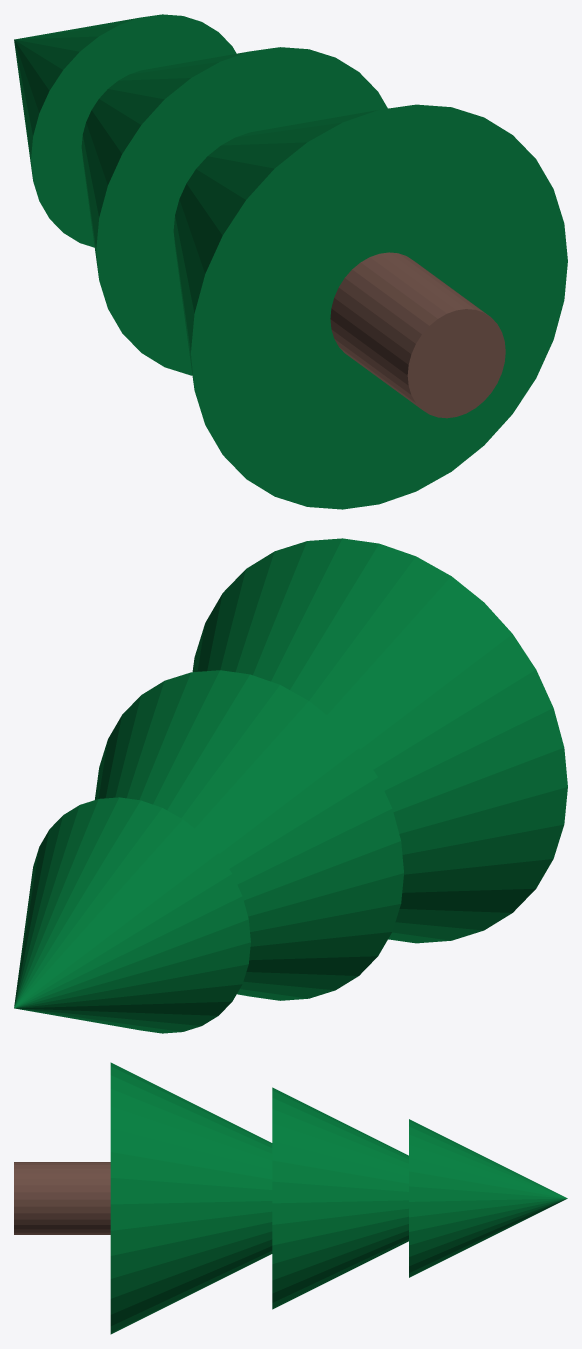
Rendered from tree.fbx.
3 renders of one model, top to bottom at view 1: azimuth 30°, elevation 25°; view 2: azimuth 150°, elevation 25°; view 3: azimuth 270°, elevation 25°, orthographic. The views are drawn at different scales.
Visible parts, largest first — view 1: Cylinder; view 2: Cylinder; view 3: Cylinder.
Boxes of the visible parts, x1,y1,x2,y2 form: Cylinder: (14, 14, 567, 509); Cylinder: (14, 538, 567, 1033); Cylinder: (14, 1062, 567, 1334).
Bounding box in the file's own units: 556 × 556 × 1131.
